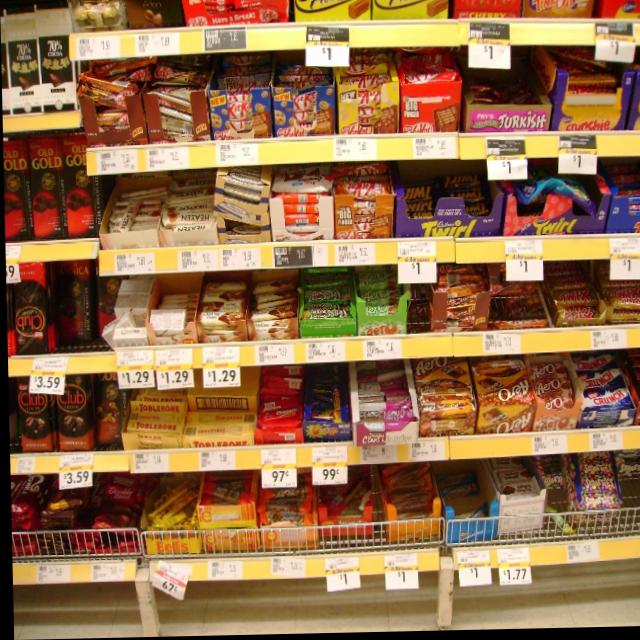q52: (38, 32, 80, 116), (9, 35, 40, 119)
